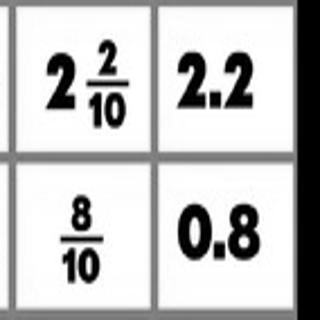.: (212, 238, 227, 263), (207, 90, 223, 112)
0: (173, 200, 213, 261), (102, 87, 128, 133), (75, 246, 101, 287)
1: (58, 246, 78, 287), (88, 90, 102, 130)
2: (41, 46, 79, 116), (172, 47, 208, 113), (221, 47, 254, 114), (93, 36, 121, 76)
8: (227, 201, 262, 264), (68, 191, 93, 233)
